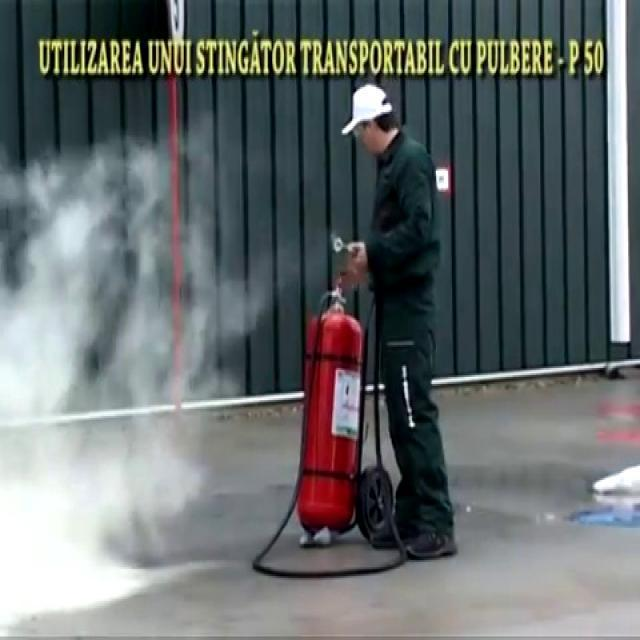Smoke: (0, 140, 298, 640)
